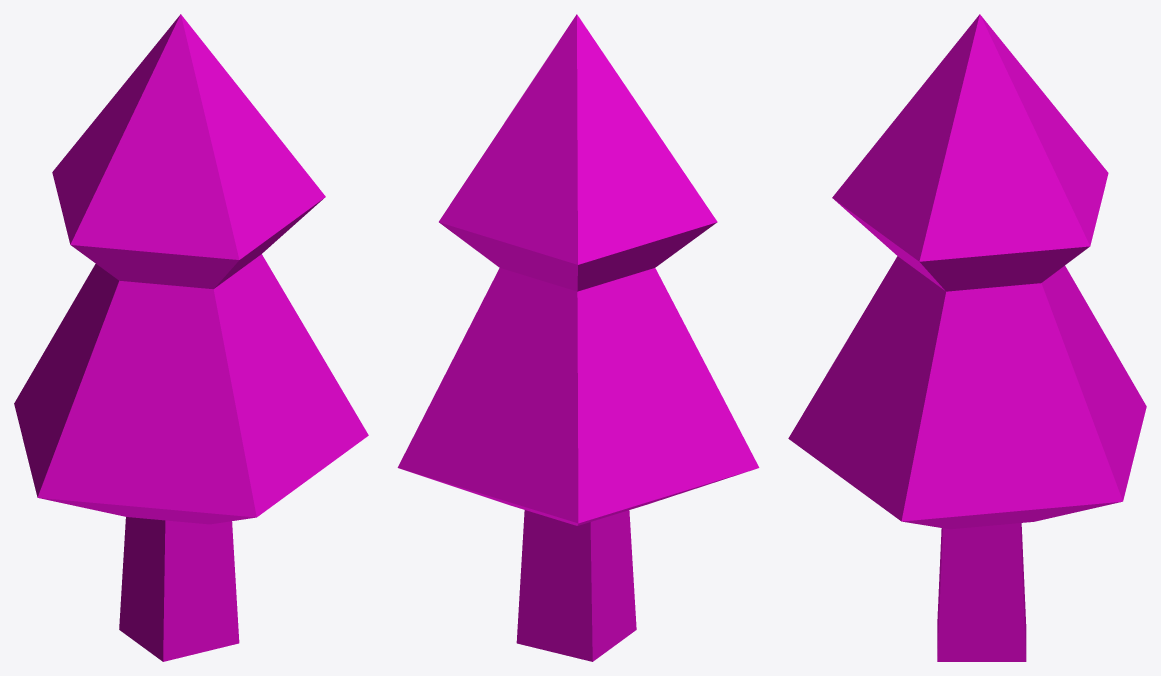
Rendered from Pine 0.fbx.
3 views of the same model, side by side, from view 1: azimuth 30°, elevation 25°; view 2: azimuth 150°, elevation 25°; view 3: azimuth 270°, elevation 25° (orthographic).
Parts seen in each view (by area): view 1: Bush, Trunk; view 2: Bush, Trunk; view 3: Bush, Trunk.
Boxes of the visible parts, x1,y1,x2,y2 form: Bush: [14, 14, 368, 524]; Trunk: [119, 517, 239, 661]; Bush: [397, 14, 759, 525]; Trunk: [516, 510, 636, 661]; Bush: [788, 14, 1146, 529]; Trunk: [937, 523, 1026, 661].
Bounding box in the file's own units: 3.9 × 7.42 × 3.83.
